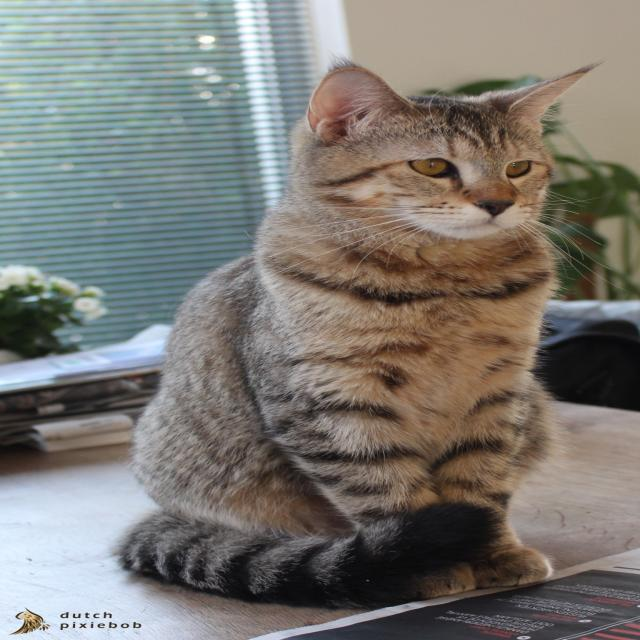cat: (121, 37, 606, 608)
